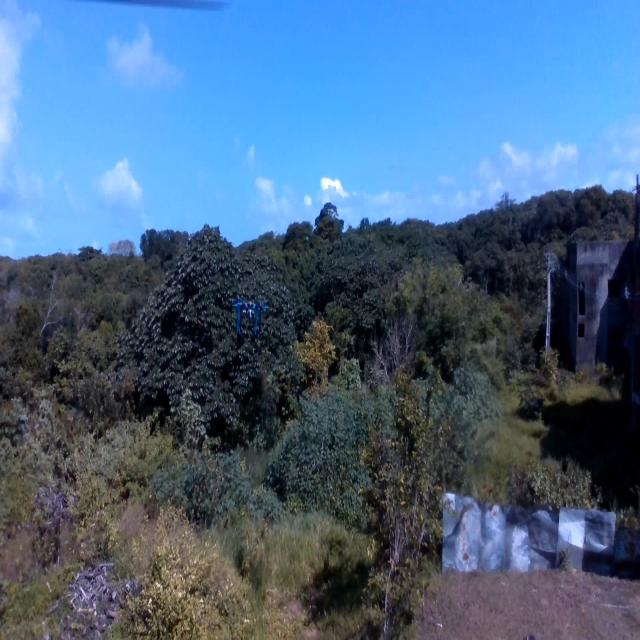-uav-: (217, 278, 291, 352)
